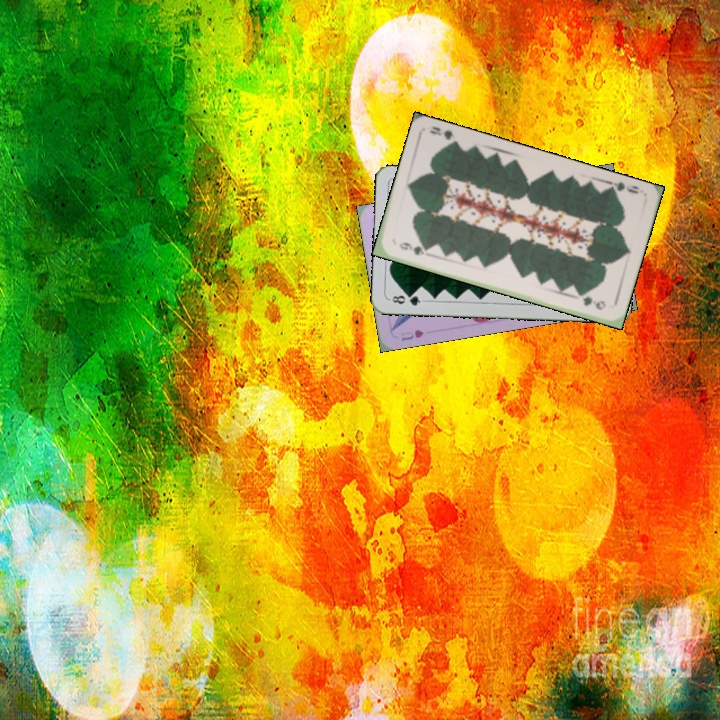G8: (386, 290, 426, 308)
G9: (604, 177, 641, 197), (395, 238, 431, 258)
HU: (396, 325, 426, 343)
